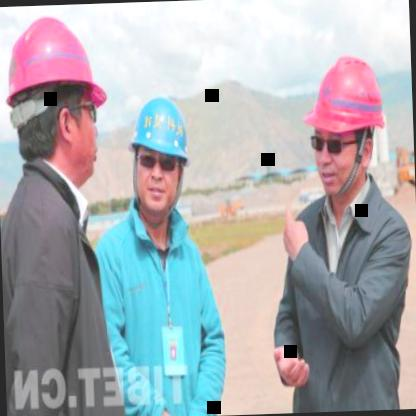helmet: (1, 4, 102, 188), (304, 46, 386, 198), (128, 90, 194, 224)
